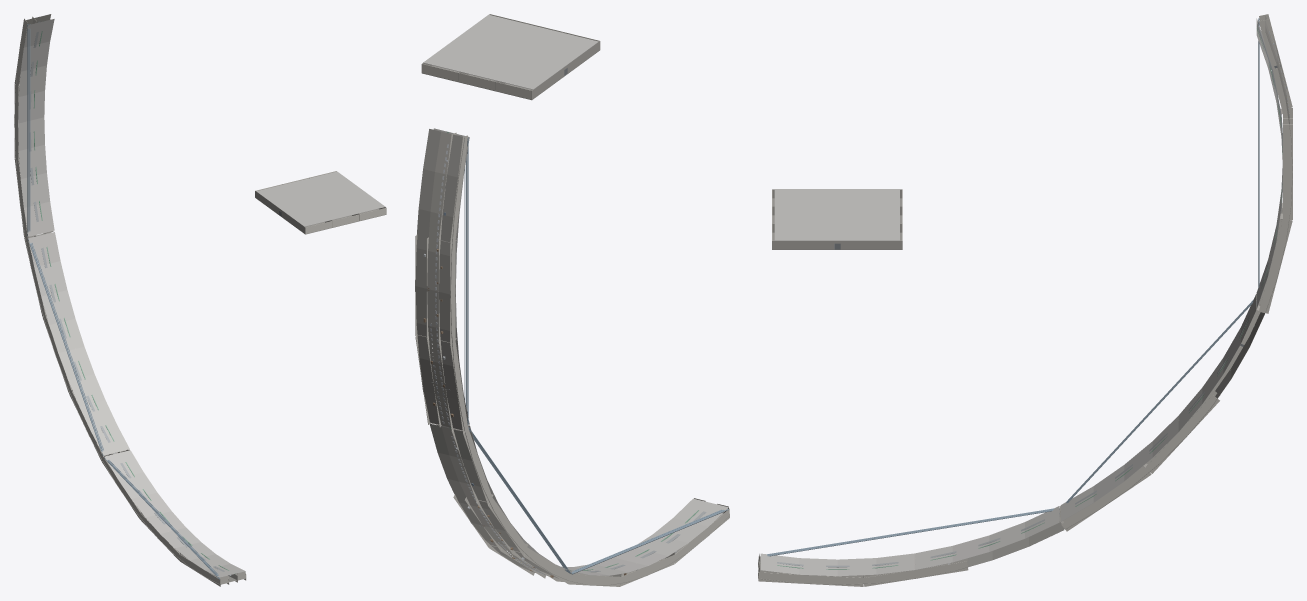
Rendered from xuanshu_interior_C33.glb.
The picture shows the model from 3 angles, left to right: view 1: azimuth 30°, elevation 25°; view 2: azimuth 150°, elevation 25°; view 3: azimuth 270°, elevation 25°; orthographic projection. The views are drawn at different scales.
Visible parts, largest first — view 1: UNIT-WTP-005, UNIT-MNT-001; view 2: UNIT-WTP-005, UNIT-MNT-001; view 3: UNIT-WTP-005, UNIT-MNT-001.
Part boxes in pixels (bbox=[...]): UNIT-WTP-005: bbox=[14, 14, 246, 586]; UNIT-MNT-001: bbox=[255, 171, 386, 234]; UNIT-WTP-005: bbox=[415, 128, 729, 586]; UNIT-MNT-001: bbox=[421, 14, 600, 100]; UNIT-WTP-005: bbox=[758, 14, 1292, 586]; UNIT-MNT-001: bbox=[772, 189, 902, 249].
Size of the model in its own units: 86.64 by 207 by 180.
